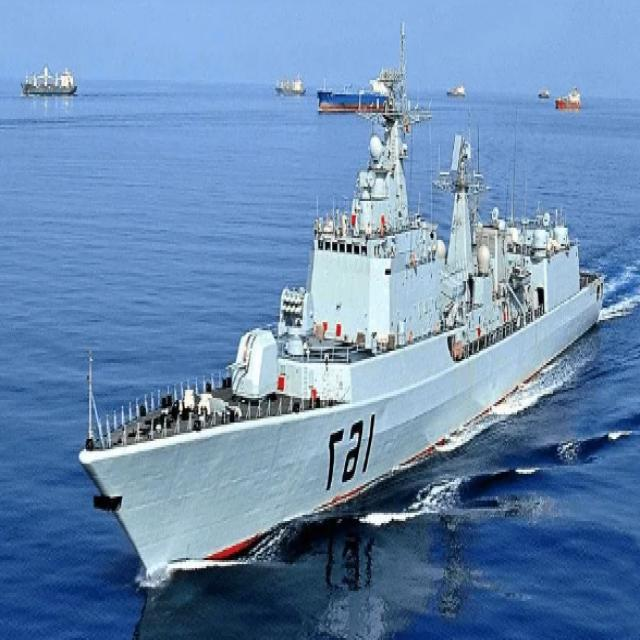cargoship: (317, 70, 387, 108)
navalvessels: (63, 91, 602, 618), (18, 54, 78, 104), (270, 76, 310, 110)
